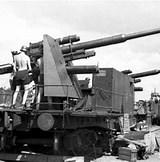MIL_SPG: (0, 28, 159, 162)
